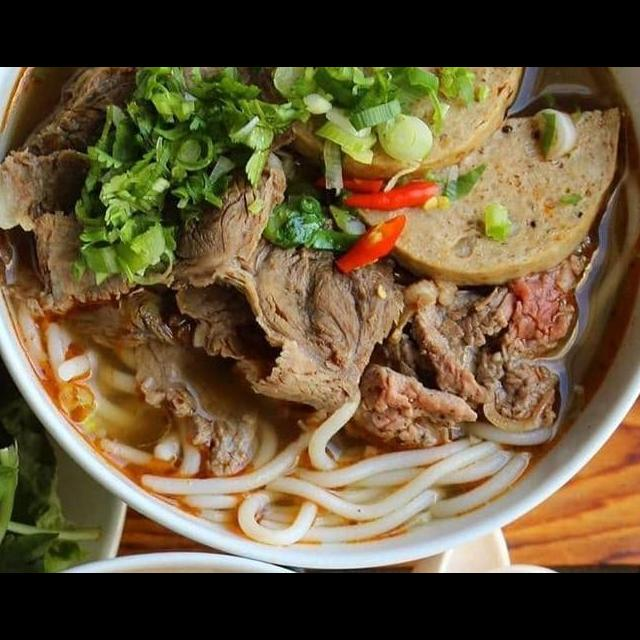bun: (6, 291, 570, 556)
bun bo: (0, 107, 640, 522)
thit bo: (172, 204, 408, 421), (22, 134, 290, 321), (378, 267, 562, 436), (90, 318, 270, 481), (321, 351, 484, 453), (0, 142, 137, 242), (492, 230, 594, 360), (10, 68, 140, 168)
